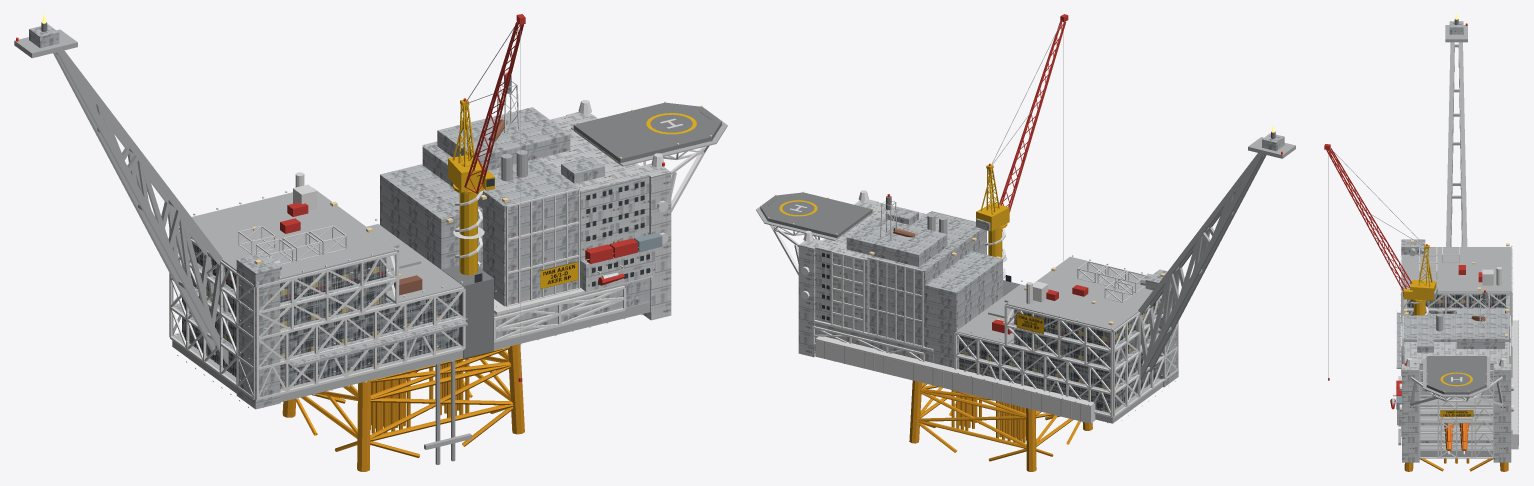
File: platform.glb
3 renders of one model, left to right at view 1: azimuth 30°, elevation 25°; view 2: azimuth 150°, elevation 25°; view 3: azimuth 270°, elevation 25°, orthographic. The views are drawn at different scales.
Visible parts, largest first — view 1: Platform_PlatModule, Platform_PlatSteel, Platform_PlatWhite, Platform_PlatQuarters, Platform_PlatInterior, Platform_PlatJacket, Platform_PlatHelideck, Platform_PlatOrange, Platform_PlatCrane, Platform_PlatDark, Platform_PlatGlass, Platform_PlatSign; view 2: Platform_PlatWhite, Platform_PlatModule, Platform_PlatSteel, Platform_PlatInterior, Platform_PlatQuarters, Platform_PlatJacket, Platform_PlatHelideck, Platform_PlatOrange, Platform_PlatCrane; view 3: Platform_PlatSteel, Platform_PlatWhite, Platform_PlatQuarters, Platform_PlatModule, Platform_PlatHelideck, Platform_PlatOrange, Platform_PlatCrane, Platform_PlatInterior, Platform_PlatBoat, Platform_PlatJacket, Platform_PlatSign.002.
Part boxes in pixels (x1,y1,x2,y2): Platform_PlatModule: (29, 24, 650, 409); Platform_PlatSteel: (14, 27, 727, 464); Platform_PlatWhite: (169, 81, 722, 400); Platform_PlatQuarters: (539, 112, 671, 320); Platform_PlatInterior: (182, 243, 459, 388); Platform_PlatJacket: (282, 344, 524, 471); Platform_PlatHelideck: (573, 102, 721, 162); Platform_PlatOrange: (280, 14, 637, 381); Platform_PlatCrane: (448, 99, 494, 275); Platform_PlatDark: (41, 22, 713, 358); Platform_PlatGlass: (474, 178, 649, 282); Platform_PlatSign: (540, 261, 578, 288); Platform_PlatWhite: (760, 190, 1178, 423); Platform_PlatModule: (814, 133, 1284, 394); Platform_PlatSteel: (756, 22, 1295, 423); Platform_PlatInterior: (959, 302, 1158, 412); Platform_PlatQuarters: (798, 199, 925, 357); Platform_PlatJacket: (909, 380, 1092, 471); Platform_PlatHelideck: (760, 192, 872, 237); Platform_PlatOrange: (992, 14, 1088, 334); Platform_PlatCrane: (976, 164, 1009, 257); Platform_PlatSteel: (1328, 25, 1518, 456); Platform_PlatWhite: (1391, 247, 1518, 458); Platform_PlatQuarters: (1397, 342, 1511, 462); Platform_PlatModule: (1396, 21, 1509, 442); Platform_PlatHelideck: (1426, 356, 1486, 394); Platform_PlatOrange: (1324, 144, 1482, 409); Platform_PlatCrane: (1403, 244, 1436, 315); Platform_PlatInterior: (1407, 294, 1505, 315); Platform_PlatBoat: (1444, 423, 1469, 450); Platform_PlatJacket: (1404, 458, 1508, 471); Platform_PlatSign.002: (1440, 410, 1473, 416).
Bounding box in the file's own units: 181 × 127 × 68.69.
23 materials, 6 textured.
